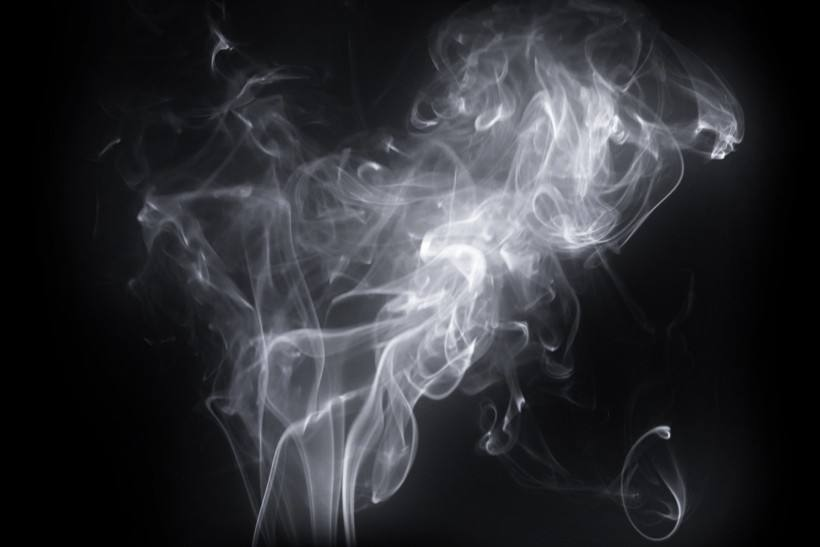yanwu: (137, 18, 744, 488)
